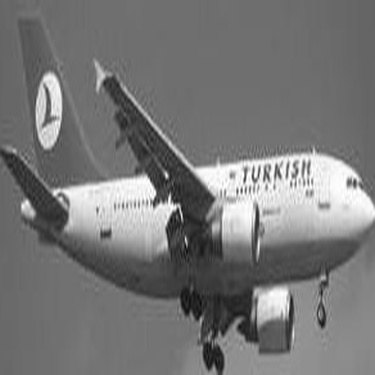airplane: (3, 1, 372, 371)
